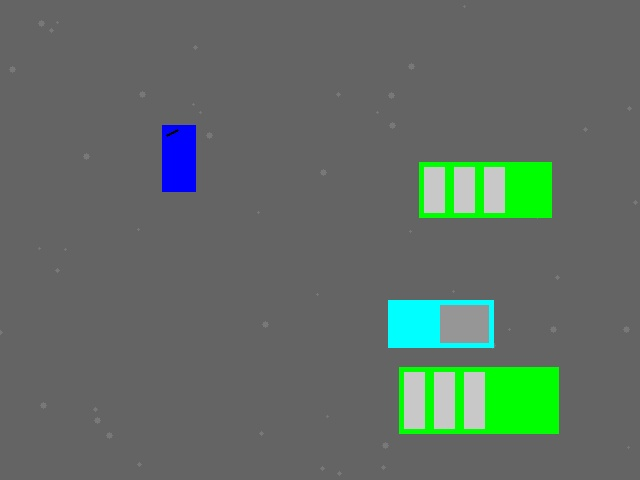bus: (399, 367, 558, 433), (419, 162, 551, 217)
motorcycle: (162, 125, 195, 191), (441, 373, 470, 431)
truck: (388, 300, 493, 347)
